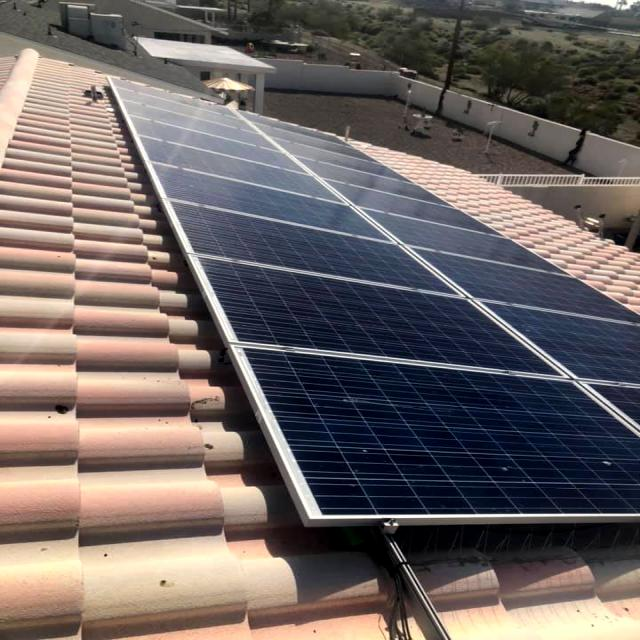dust: (308, 382, 630, 486), (503, 296, 640, 382)
